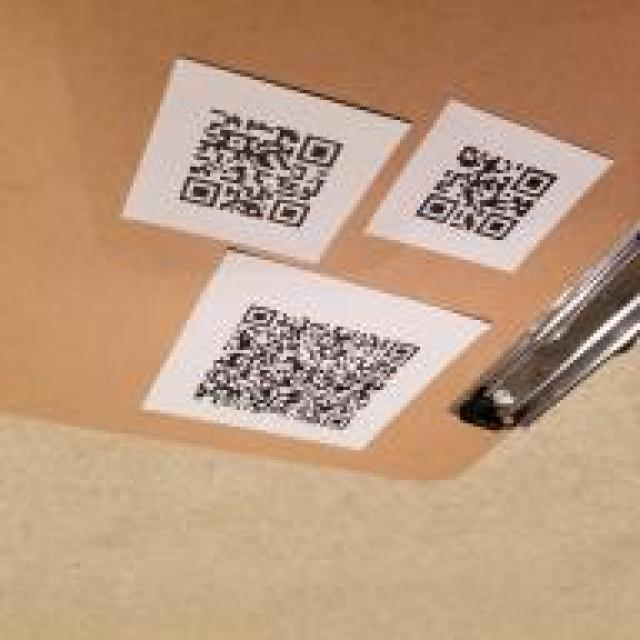QR_CODE: (184, 297, 428, 433), (170, 97, 353, 233), (407, 135, 565, 247)
